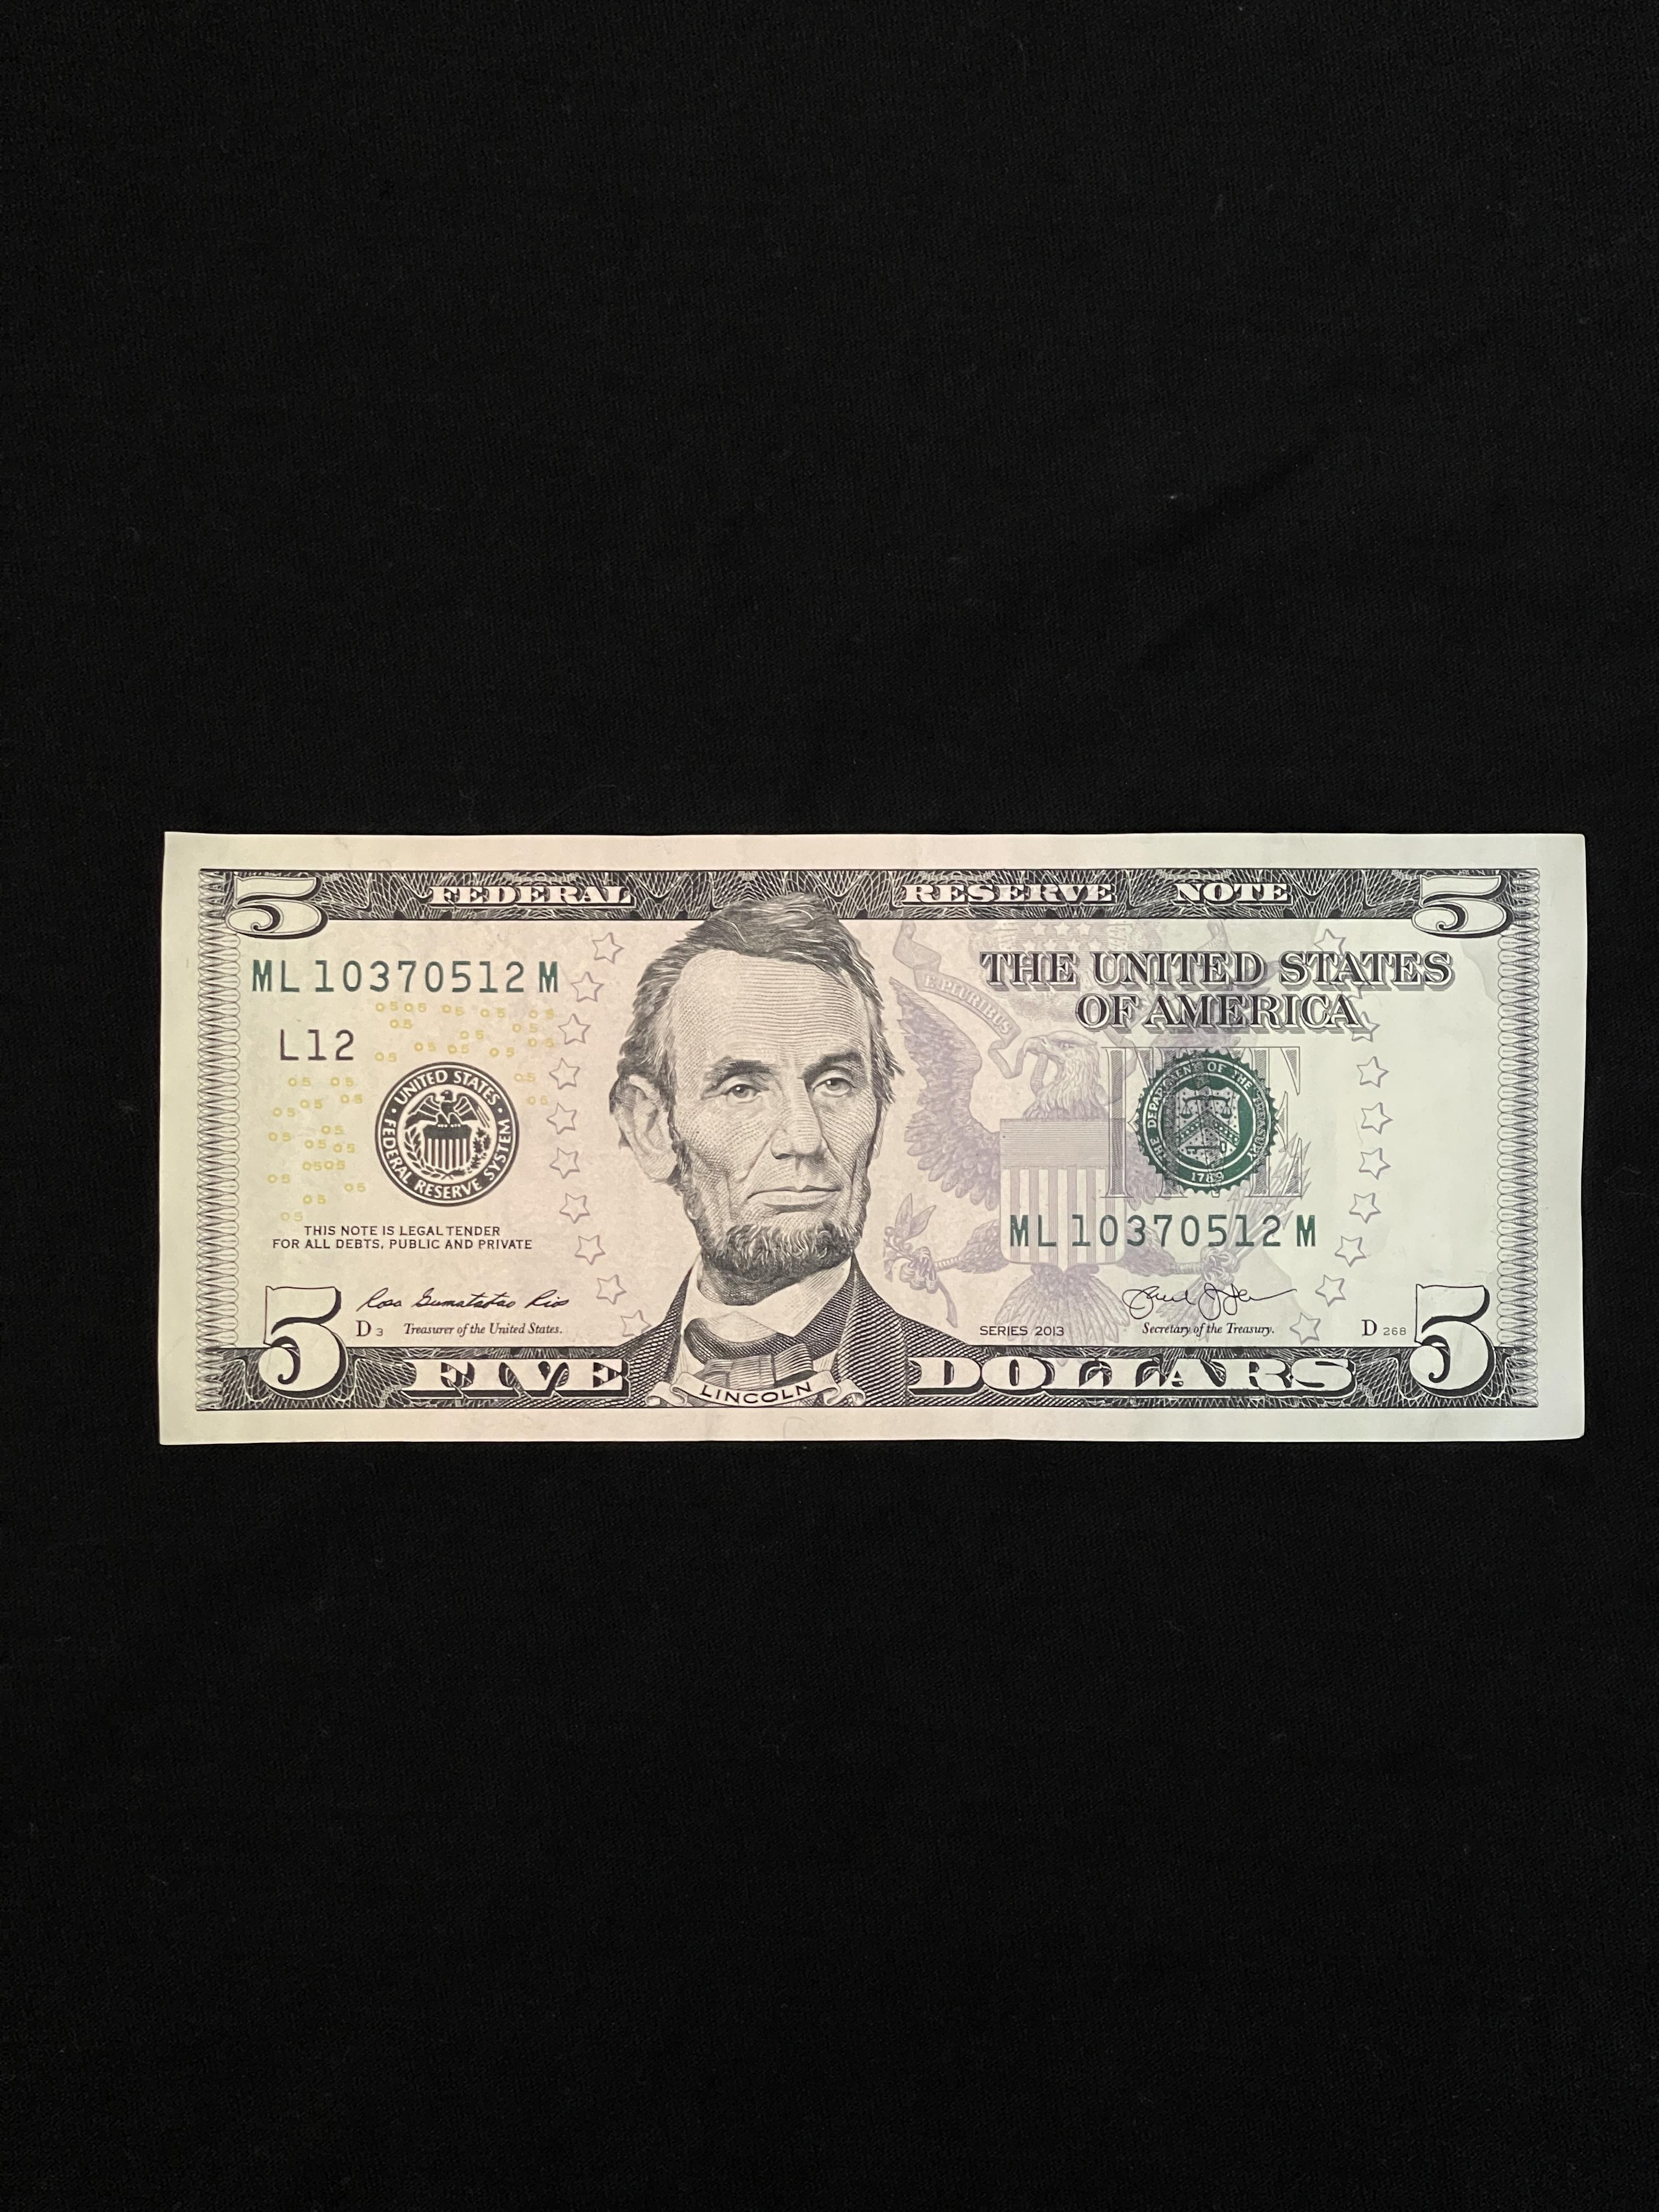FiveBill: (152, 827, 1595, 1449)
